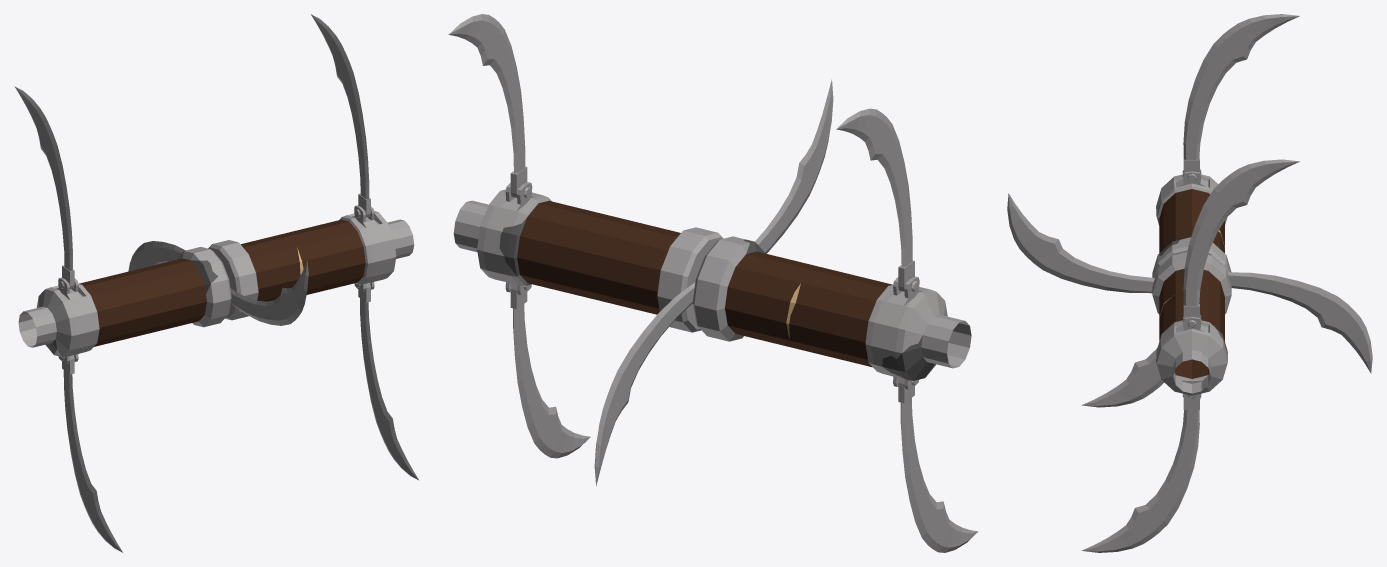
The model's file is H_SpinningBladeA.fbx.
3 renders of one model, left to right at view 1: azimuth 30°, elevation 25°; view 2: azimuth 150°, elevation 25°; view 3: azimuth 270°, elevation 25°, orthographic. The views are drawn at different scales.
Parts seen in each view (by area): view 1: H_SpinningBladeA; view 2: H_SpinningBladeA; view 3: H_SpinningBladeA.
Part boxes in pixels (<box>): H_SpinningBladeA: <box>14,14,419,552</box>; H_SpinningBladeA: <box>448,14,978,552</box>; H_SpinningBladeA: <box>1007,14,1372,552</box>.
Size of the model in its own units: 545 by 540 by 455.
